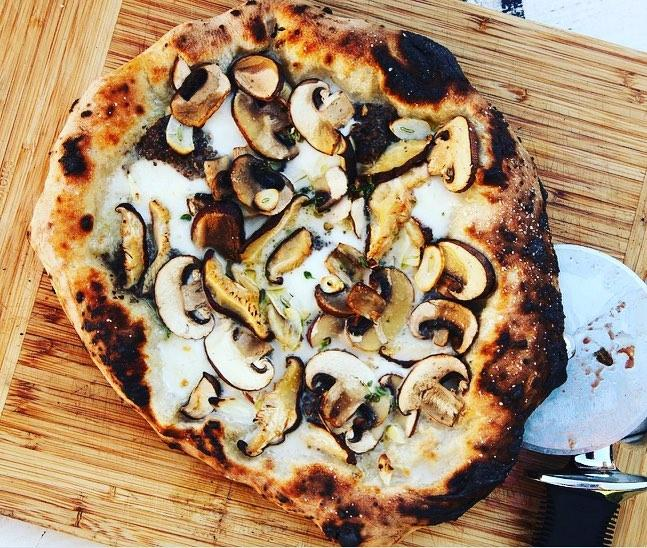Mushroom: (303, 341, 391, 464), (365, 157, 441, 272), (234, 348, 308, 457), (194, 248, 278, 344), (199, 144, 294, 216), (240, 192, 313, 283), (395, 354, 475, 434), (229, 78, 299, 164), (150, 250, 215, 342), (198, 317, 277, 392), (287, 74, 355, 160), (424, 107, 484, 196), (318, 249, 388, 317), (169, 60, 232, 133), (357, 132, 433, 191), (407, 296, 481, 356), (437, 235, 496, 303), (182, 204, 250, 260), (138, 199, 174, 300), (348, 99, 400, 168), (377, 366, 424, 441), (110, 199, 147, 292), (261, 228, 317, 286), (227, 54, 285, 102), (182, 367, 221, 424), (413, 237, 442, 297), (401, 205, 433, 255), (164, 107, 194, 155), (390, 114, 436, 143)
Pizza: (28, 0, 569, 548)
